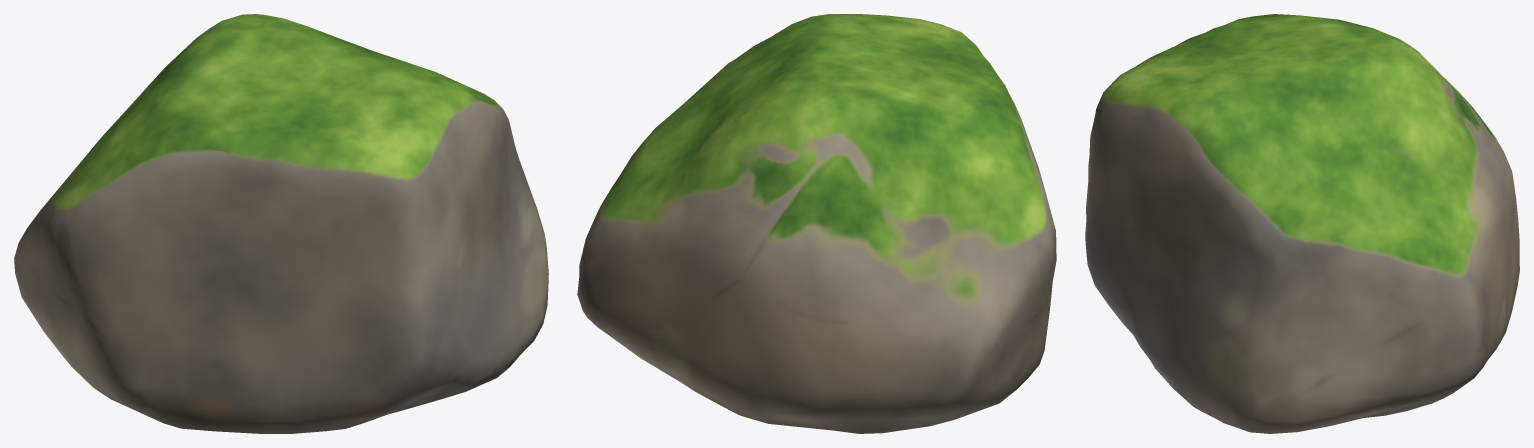
Rendered from Rock_Mossy_A.fbx.
3 renders of one model, left to right at view 1: azimuth 30°, elevation 25°; view 2: azimuth 150°, elevation 25°; view 3: azimuth 270°, elevation 25°, orthographic. The views are drawn at different scales.
Visible parts, largest first — view 1: Rock_Mossy_A; view 2: Rock_Mossy_A; view 3: Rock_Mossy_A.
Boxes of the visible parts, x1=… form: Rock_Mossy_A: x1=14, y1=14, x2=548, y2=433; Rock_Mossy_A: x1=577, y1=14, x2=1056, y2=433; Rock_Mossy_A: x1=1085, y1=14, x2=1519, y2=433.
Size of the model in its own units: 2.44 by 1.81 by 2.16.
1 material, 1 textured.
